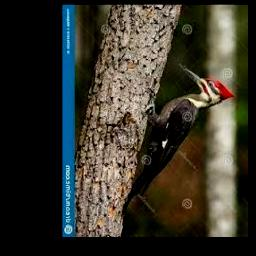Woodpecker: (122, 64, 233, 215)
